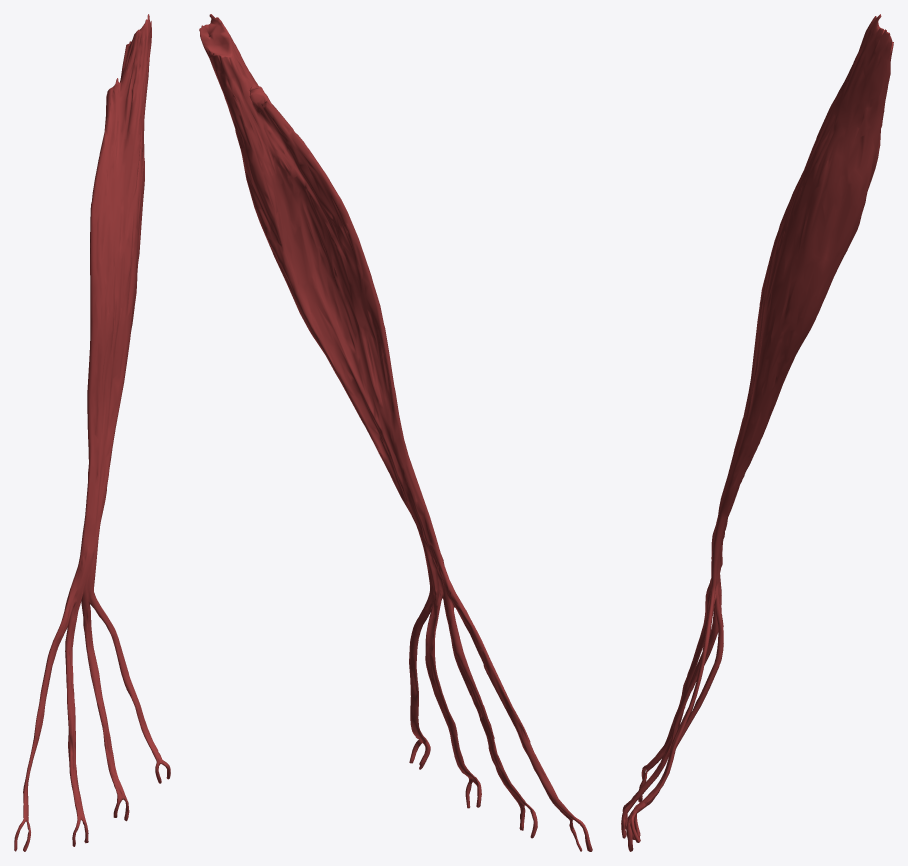
File: humero-ulnar-head-of-flexor-digitorum-superficialis-r.glb
3 renders of one model, left to right at view 1: azimuth 30°, elevation 25°; view 2: azimuth 150°, elevation 25°; view 3: azimuth 270°, elevation 25°, orthographic. The views are drawn at different scales.
Visible parts, largest first — view 1: Humero-ulnar head of flexor digitorum superficialis.r; view 2: Humero-ulnar head of flexor digitorum superficialis.r; view 3: Humero-ulnar head of flexor digitorum superficialis.r.
Boxes of the visible parts, left/top/right/bottom form: Humero-ulnar head of flexor digitorum superficialis.r: left=14, top=14, right=170, bottom=851; Humero-ulnar head of flexor digitorum superficialis.r: left=199, top=14, right=592, bottom=851; Humero-ulnar head of flexor digitorum superficialis.r: left=621, top=14, right=893, bottom=851.
Size of the model in its own units: 0.132 by 0.3897 by 0.1037.
